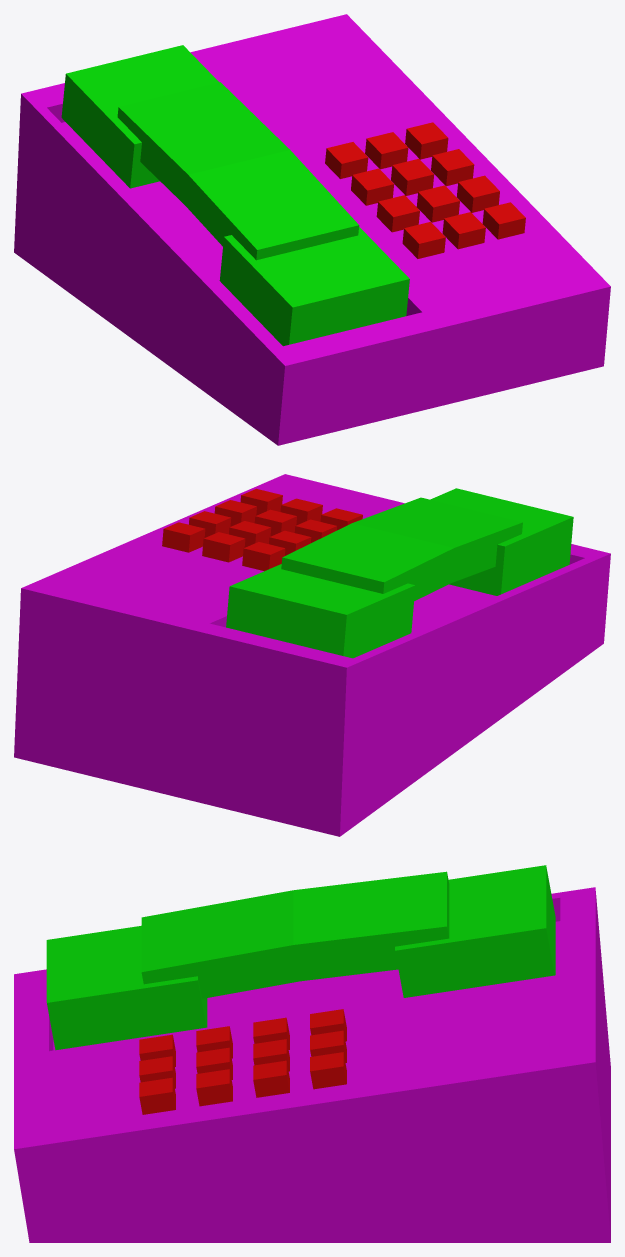
File: Telefono.fbx
The picture shows the model from 3 angles, top to bottom: view 1: azimuth 30°, elevation 25°; view 2: azimuth 150°, elevation 25°; view 3: azimuth 270°, elevation 25°; orthographic projection. The views are drawn at different scales.
Visible parts, largest first — view 1: Phone_stand; view 2: Phone_stand; view 3: Phone_stand.
Part boxes in pixels (x1,y1,x2,y2): Phone_stand: (14, 14, 610, 445); Phone_stand: (14, 474, 610, 836); Phone_stand: (14, 865, 610, 1242).
Bounding box in the file's own units: 1598 × 913 × 2302.
